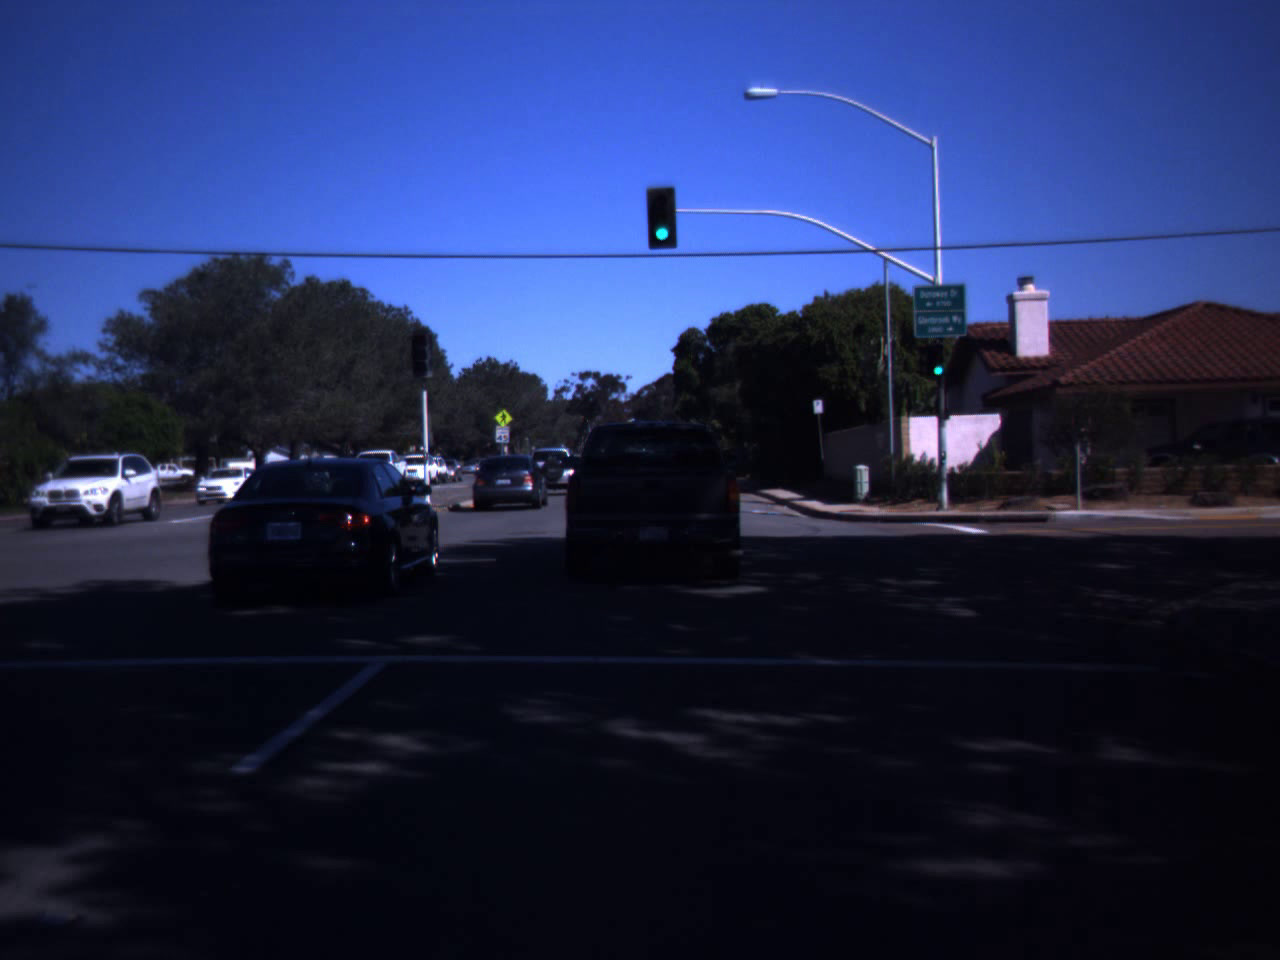go: (645, 192, 678, 242), (930, 347, 951, 377)
